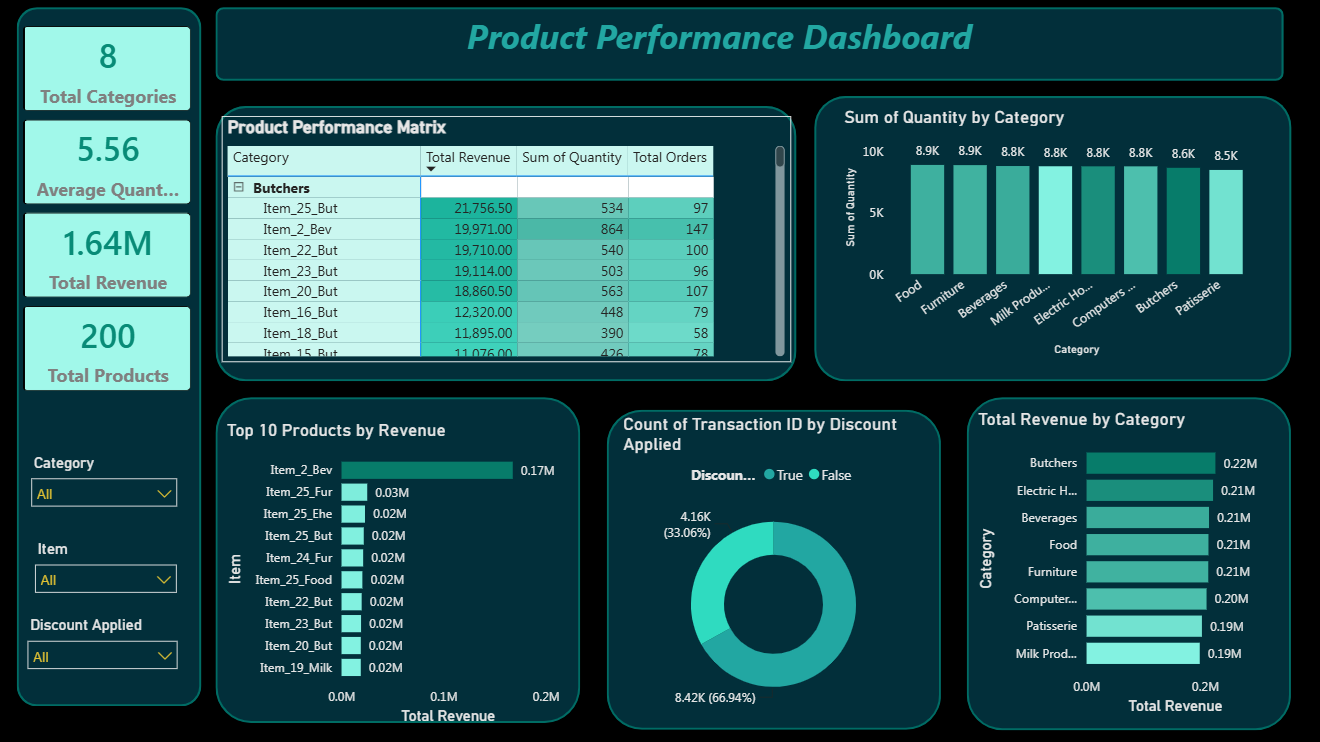

The page's visual inventory and layout, read from the dashboard file:
{"tool":"powerbi","page":{"name":"Product Performance","canvas":[1280,720],"ordinal":1},"visuals":[{"type":"shape","box":[210.1,386.8,352,314.4],"z":0},{"type":"shape","box":[210.1,11.1,1031,71],"z":1000},{"type":"shape","box":[18.1,11.1,178.1,674.8],"z":2000},{"type":"cardVisual","fields":{"Data":["cleaned_retail_sales.Total Categories","cleaned_retail_sales.Average Quantity Sold","cleaned_retail_sales.Total Revenue","cleaned_retail_sales.Total Products"]},"box":[7,12.5,196.2,386.8],"z":3000},{"type":"shape","box":[787.5,96,460.5,275.5],"z":4000},{"type":"shape","box":[587.1,399.3,322.8,308.9],"z":5000},{"type":"shape","box":[935,386.8,313,321.4],"z":6000},{"type":"clusteredBarChart","fields":{"Category":["cleaned_retail_sales.Category"],"Y":["cleaned_retail_sales.Total Revenue"]},"box":[940.5,397.9,300.5,300.5],"z":7000},{"type":"slicer","fields":{"Values":["cleaned_retail_sales.Category"]},"box":[22.3,436.9,161.4,76.5],"z":8000},{"type":"slicer","fields":{"Values":["cleaned_retail_sales.Item"]},"box":[25,520.3,157.2,89],"z":9000},{"type":"slicer","fields":{"Values":["cleaned_retail_sales.Discount Applied"]},"box":[18.1,594.1,165.6,91.8],"z":10000},{"type":"textbox","box":[233.7,12.5,921,71],"z":11000},{"type":"shape","box":[210.1,105.7,560.7,265.7],"z":12000},{"type":"clusteredBarChart","title":"Top 10 Products by Revenue","fields":{"Category":["cleaned_retail_sales.Item"],"Y":["cleaned_retail_sales.Total Revenue"]},"box":[215.7,409,340.9,299.1],"z":13000},{"type":"donutChart","fields":{"Category":["cleaned_retail_sales.Discount Applied"],"Y":["CountNonNull(cleaned_retail_sales.Transaction ID)"]},"box":[598.3,403.5,300.5,300.5],"z":14000},{"type":"pivotTable","title":"Product Performance Matrix","fields":{"Rows":["cleaned_retail_sales.Category","cleaned_retail_sales.Item"],"Values":["cleaned_retail_sales.Total Revenue","Sum(cleaned_retail_sales.Quantity)","cleaned_retail_sales.Total Orders"]},"box":[215.7,115.5,549.6,237.9],"z":15000},{"type":"clusteredColumnChart","fields":{"Category":["cleaned_retail_sales.Category"],"Y":["Sum(cleaned_retail_sales.Quantity)"]},"box":[812.5,105.7,411.8,246.3],"z":16000}]}

Visuals, with their boxes in screenshot pixels (x1, y1, x2, y2), scaled from the page's 1280x720 canvas onto the 1320x742 screenshot:
shape: x1=217, y1=399, x2=580, y2=723
shape: x1=217, y1=11, x2=1280, y2=85
shape: x1=19, y1=11, x2=202, y2=707
cardVisual - cleaned_retail_sales.Total Categories x cleaned_retail_sales.Average Quantity Sold: x1=7, y1=13, x2=210, y2=412
shape: x1=812, y1=99, x2=1287, y2=383
shape: x1=605, y1=412, x2=938, y2=730
shape: x1=964, y1=399, x2=1287, y2=730
clusteredBarChart - cleaned_retail_sales.Category x cleaned_retail_sales.Total Revenue: x1=970, y1=410, x2=1280, y2=720
slicer - cleaned_retail_sales.Category: x1=23, y1=450, x2=189, y2=529
slicer - cleaned_retail_sales.Item: x1=26, y1=536, x2=188, y2=628
slicer - cleaned_retail_sales.Discount Applied: x1=19, y1=612, x2=189, y2=707
textbox: x1=241, y1=13, x2=1191, y2=86
shape: x1=217, y1=109, x2=795, y2=383
"Top 10 Products by Revenue" clusteredBarChart: x1=222, y1=421, x2=574, y2=730
donutChart - cleaned_retail_sales.Discount Applied x CountNonNull(cleaned_retail_sales.Transaction ID): x1=617, y1=416, x2=927, y2=726
"Product Performance Matrix" pivotTable: x1=222, y1=119, x2=789, y2=364
clusteredColumnChart - cleaned_retail_sales.Category x Sum(cleaned_retail_sales.Quantity): x1=838, y1=109, x2=1263, y2=363
